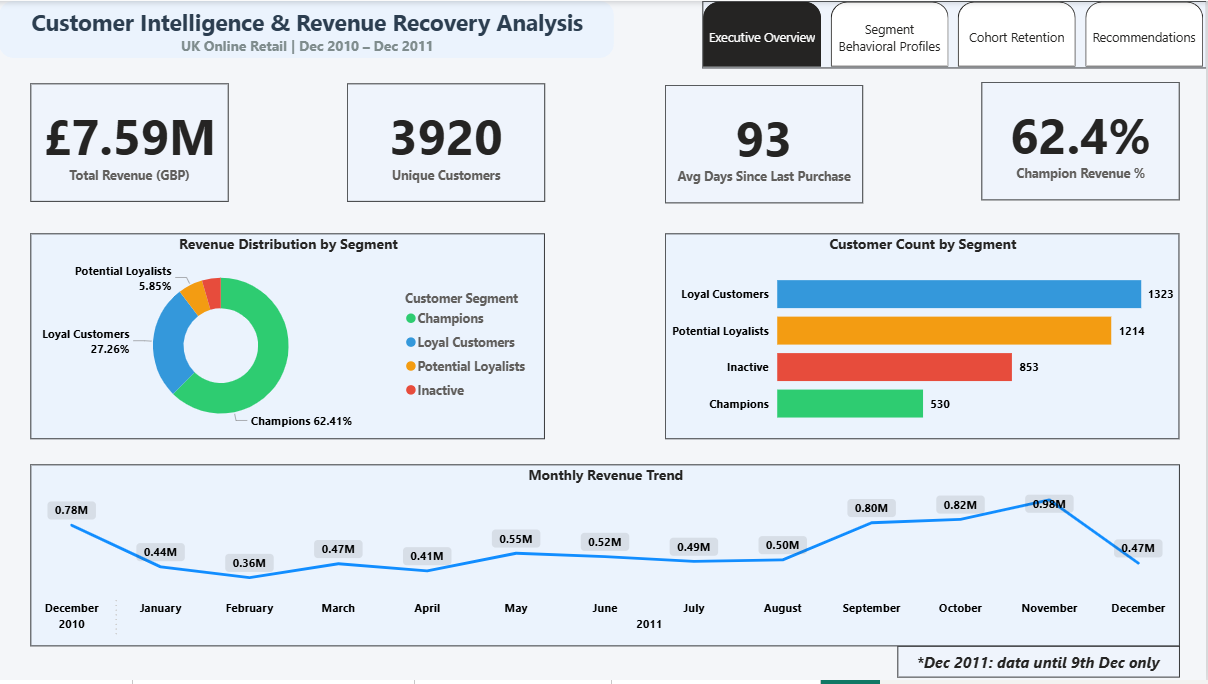

What the dashboard file says about the page in this screenshot:
{"tool":"powerbi","page":{"name":"Executive Overview","canvas":[1280,720],"ordinal":0},"visuals":[{"type":"shape","box":[0,0,652.2,60.4],"z":0},{"type":"textbox","box":[0,0,653.7,71.6],"z":1000},{"type":"card","fields":{"Values":["Measure.Total Revenue"]},"box":[33.4,87,210,125.7],"z":2000},{"type":"card","fields":{"Values":["Measure.Total Customers"]},"box":[369.6,88,210,125.7],"z":3000},{"type":"card","fields":{"Values":["Measure.Avg Recency Days"]},"box":[705.7,89.1,210,125.7],"z":4000},{"type":"card","fields":{"Values":["Measure.Champion Revenue Share"]},"box":[1041.9,85.9,210,125.7],"z":5000},{"type":"donutChart","title":"Revenue Distribution by Segment","fields":{"Category":["customer_segments.kmeans_segment"],"Y":["Measure.Total Revenue"]},"box":[33.4,246.5,545.6,217.9],"z":6000},{"type":"clusteredBarChart","title":"Customer Count by Segment","fields":{"Category":["customer_segments.kmeans_segment"],"Y":["Measure.Total Customers"]},"box":[706.2,246.5,545.6,217.9],"z":7000},{"type":"lineChart","title":"Monthly Revenue Trend","fields":{"Y":["Sum(monthly_revenue.monthly_revenue)"],"Category":["monthly_revenue.month.Variation.Date Hierarchy.Year","monthly_revenue.month.Variation.Date Hierarchy.Month"]},"box":[33.4,491.5,1218.4,192.5],"z":8000},{"type":"textbox","box":[952.8,684,299,33.4],"z":9000},{"type":"pageNavigator","box":[745.6,0,534.4,71.6],"z":9001}]}

Visuals, with their boxes in screenshot pixels (x1, y1, x2, y2), scaled from the page's 1280x720 canvas onto the 1208x684 screenshot:
shape: left=0, top=0, right=616, bottom=57
textbox: left=0, top=0, right=617, bottom=68
card - Measure.Total Revenue: left=32, top=83, right=230, bottom=202
card - Measure.Total Customers: left=349, top=84, right=547, bottom=203
card - Measure.Avg Recency Days: left=666, top=85, right=864, bottom=204
card - Measure.Champion Revenue Share: left=983, top=82, right=1181, bottom=201
"Revenue Distribution by Segment" donutChart: left=32, top=234, right=546, bottom=441
"Customer Count by Segment" clusteredBarChart: left=666, top=234, right=1181, bottom=441
"Monthly Revenue Trend" lineChart: left=32, top=467, right=1181, bottom=650
textbox: left=899, top=650, right=1181, bottom=682
pageNavigator: left=704, top=0, right=1207, bottom=68
